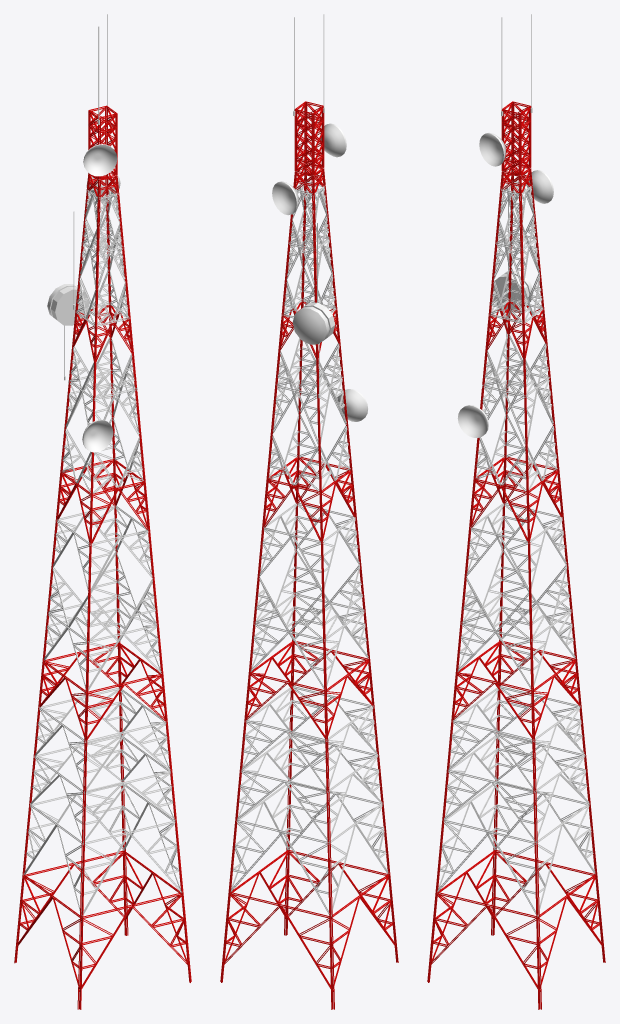
File: Radio_Tower.FBX
The picture shows the model from 3 angles, left to right: view 1: azimuth 30°, elevation 25°; view 2: azimuth 150°, elevation 25°; view 3: azimuth 330°, elevation 25°; orthographic projection.
Visible parts, largest first — view 1: Layer:005, Layer:0, Layer:004, Layer:003, comm-2, Vsat-01, Vsat-3; view 2: Layer:0, Layer:005, Layer:004, Layer:003, comm-2, Vsat-2, Vsat-3, Vsat-01; view 3: Layer:005, Layer:0, Layer:003, Layer:004, Vsat-3, comm-2, Vsat-01, Vsat-2.
Boxes of the visible parts, x1,y1,x2,y2 form: Layer:005: (77, 113, 191, 1009); Layer:0: (14, 105, 128, 963); Layer:004: (15, 110, 99, 1009); Layer:003: (106, 106, 190, 982); comm-2: (47, 284, 89, 325); Vsat-01: (83, 144, 117, 176); Vsat-3: (82, 419, 113, 452); Layer:0: (220, 109, 334, 1009); Layer:005: (284, 101, 398, 962); Layer:004: (312, 106, 397, 1009); Layer:003: (221, 101, 306, 982); comm-2: (292, 302, 335, 344); Vsat-2: (272, 181, 298, 215); Vsat-3: (337, 389, 367, 421); Vsat-01: (320, 123, 346, 157); Layer:005: (427, 109, 541, 1009); Layer:0: (491, 101, 605, 962); Layer:003: (519, 106, 604, 1009); Layer:004: (428, 101, 513, 982); Vsat-3: (457, 405, 488, 437); comm-2: (490, 271, 533, 312); Vsat-01: (479, 133, 505, 166); Vsat-2: (527, 170, 553, 203).
Bounding box in the file's own units: 3.22 × 25.74 × 3.22.
